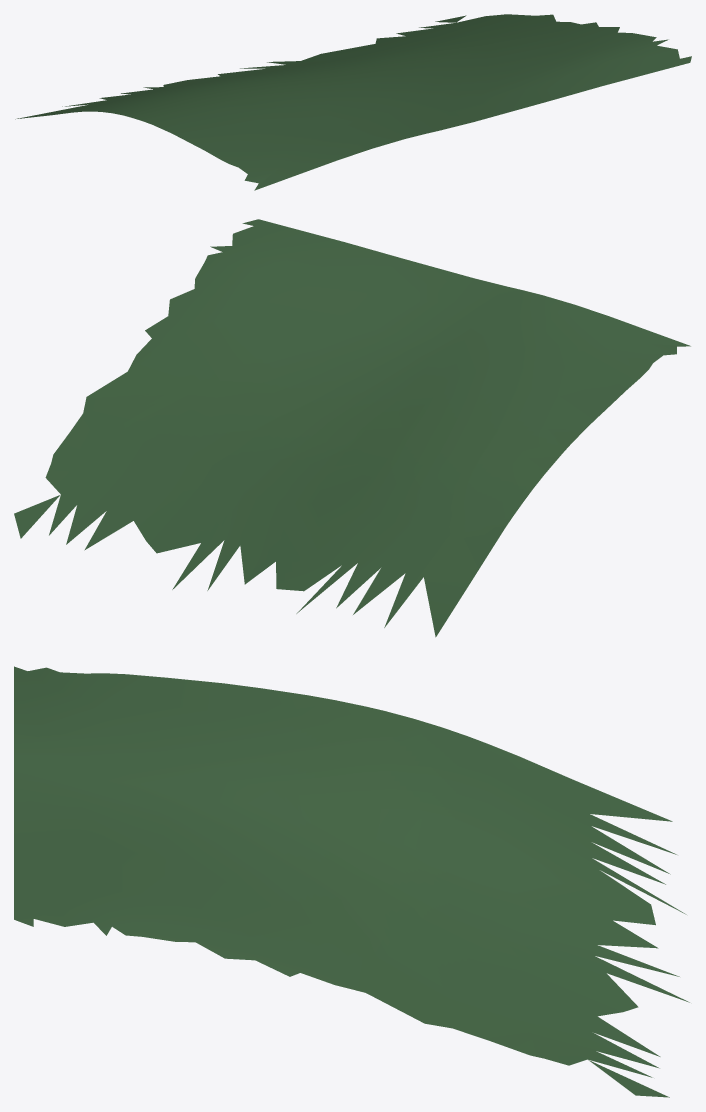
The model's file is payo_land_xm1_y10_lod1.glb.
The picture shows the model from 3 angles, top to bottom: view 1: azimuth 30°, elevation 25°; view 2: azimuth 150°, elevation 25°; view 3: azimuth 270°, elevation 25°; orthographic projection. The views are drawn at different scales.
Visible parts, largest first — view 1: payo_land_xm1_y10; view 2: payo_land_xm1_y10; view 3: payo_land_xm1_y10.
Part boxes in pixels (box(x1,y1,x2,y2)): payo_land_xm1_y10: box(15, 14, 691, 190); payo_land_xm1_y10: box(14, 219, 690, 637); payo_land_xm1_y10: box(14, 666, 689, 1097).
Bounding box in the file's own units: 270 × 82.65 × 264.
